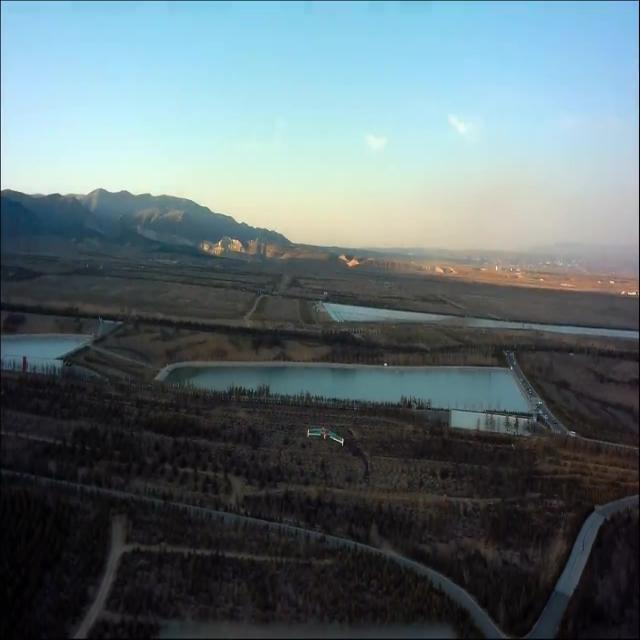iha: (307, 422, 344, 448)
